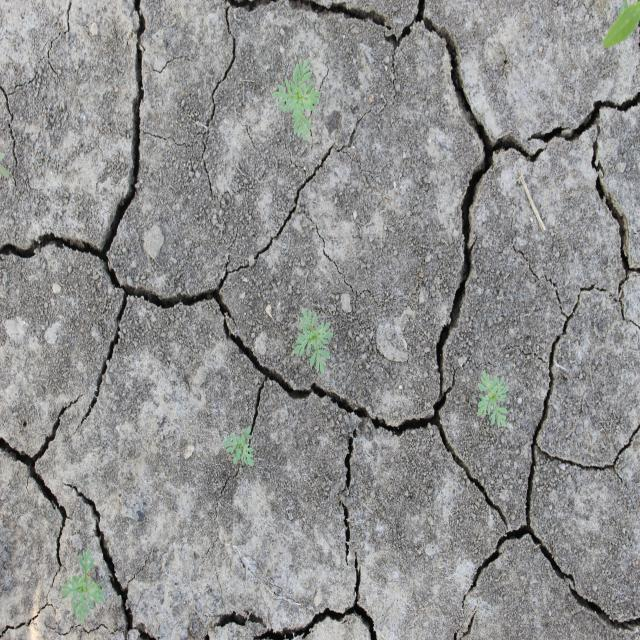Ragweed: (271, 56, 322, 143), (59, 546, 106, 625), (292, 307, 334, 376), (476, 370, 509, 430), (221, 425, 255, 468)
